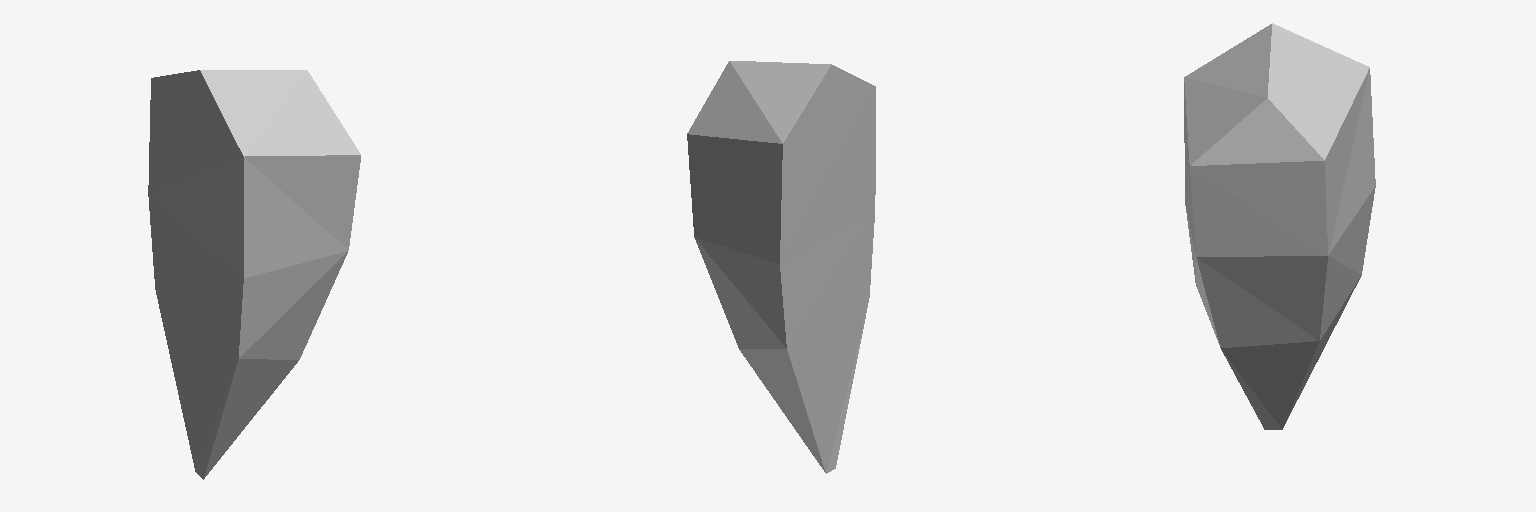
File: ShoeLeft.obj
3 views of the same model, side by side, from view 1: azimuth 30°, elevation 25°; view 2: azimuth 150°, elevation 25°; view 3: azimuth 270°, elevation 25° (orthographic).
Size of the model in its own units: 3.31 by 10.65 by 4.55.